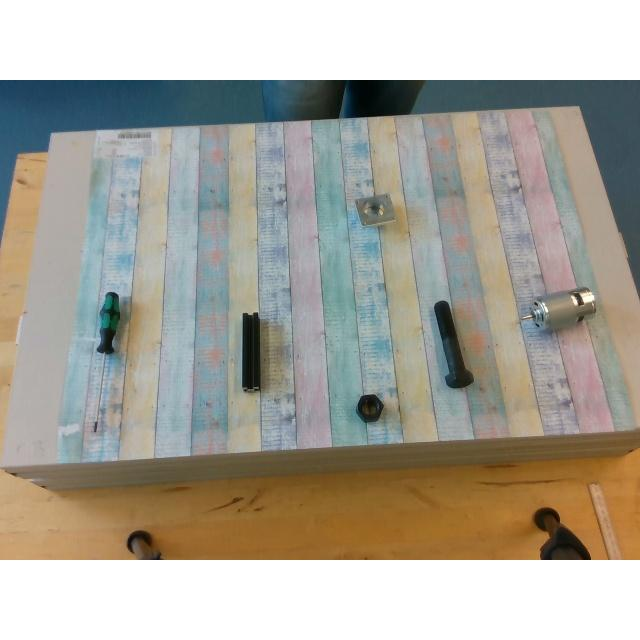F20_20_B: (241, 311, 263, 393)
M20: (356, 394, 382, 422)
M20_100: (434, 300, 472, 386)
Motor2: (531, 288, 595, 328)
Screwdriver: (91, 291, 121, 435)
